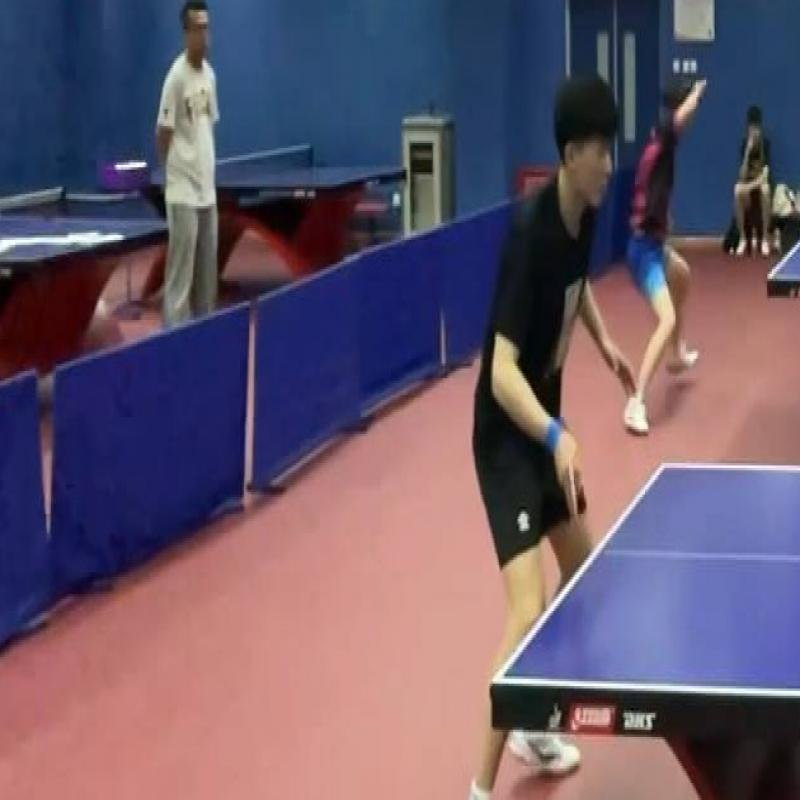bats: (547, 441, 592, 531)
